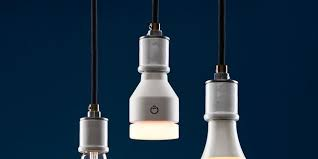bulb: (117, 105, 194, 156)
